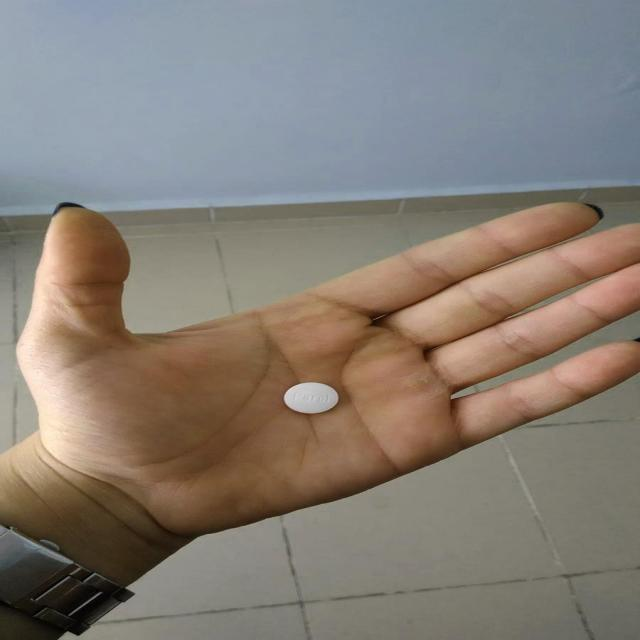pill: (280, 379, 340, 416)
